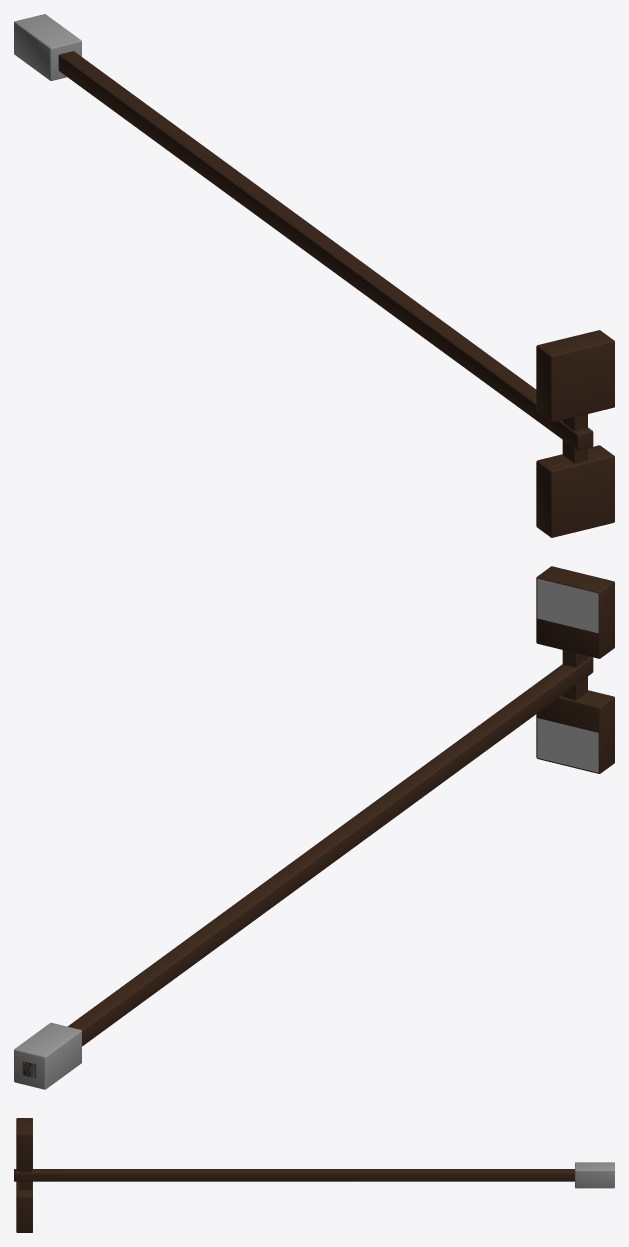
The model's file is parkinglight3.obj.
3 renders of one model, top to bottom at view 1: azimuth 30°, elevation 25°; view 2: azimuth 150°, elevation 25°; view 3: azimuth 270°, elevation 25°, orthographic. The views are drawn at different scales.
Visible parts, largest first — view 1: parking_lo; view 2: parking_lo; view 3: parking_lo.
Boxes of the visible parts, x1,y1,x2,y2 form: parking_lo: [14, 14, 614, 537]; parking_lo: [14, 566, 614, 1089]; parking_lo: [14, 1118, 614, 1232].
Size of the model in its own units: 24 by 65.12 by 360.
